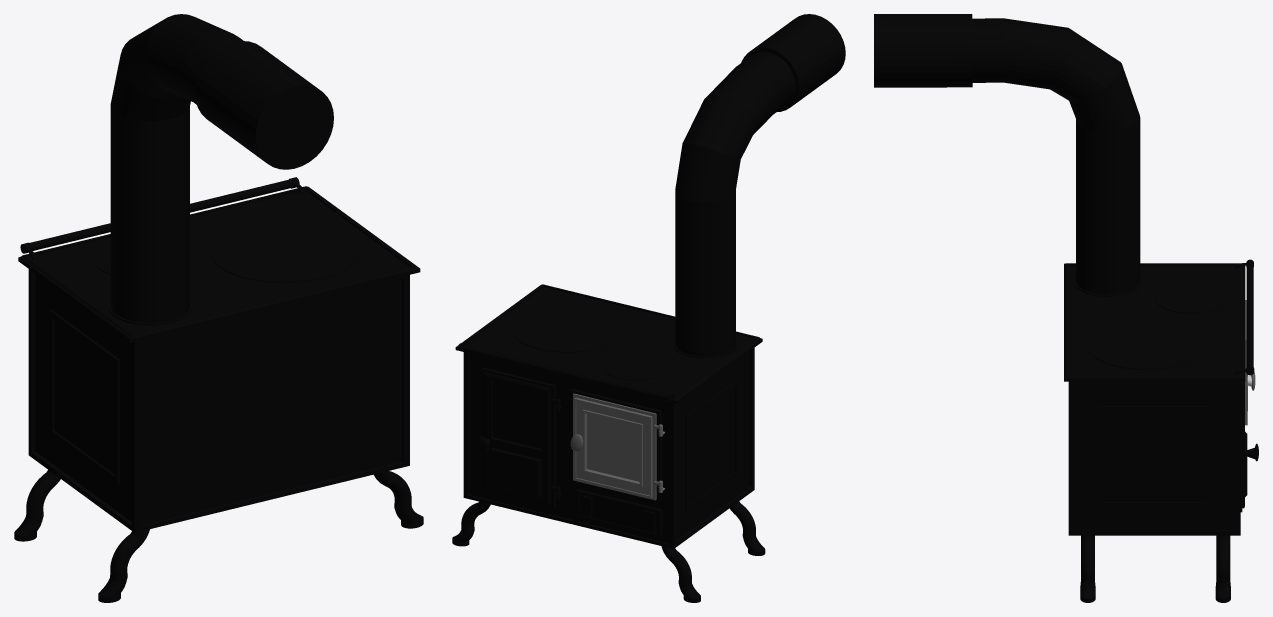
The model's file is Herd_together.fbx.
3 renders of one model, left to right at view 1: azimuth 30°, elevation 25°; view 2: azimuth 150°, elevation 25°; view 3: azimuth 270°, elevation 25°, orthographic. The views are drawn at different scales.
Visible parts, largest first — view 1: Body; view 2: Body, Cube.001; view 3: Body.
Boxes of the visible parts, <box> form: Body: <box>14,14,423,602</box>; Body: <box>452,14,845,602</box>; Cube.001: <box>573,393,656,500</box>; Body: <box>874,14,1258,602</box>.
Bounding box in the file's own units: 353 × 619 × 448.
